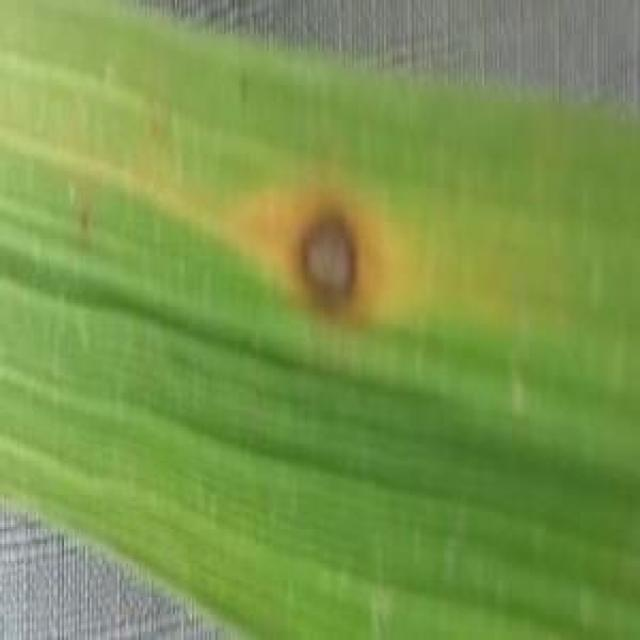brownspots: (284, 205, 367, 312)
